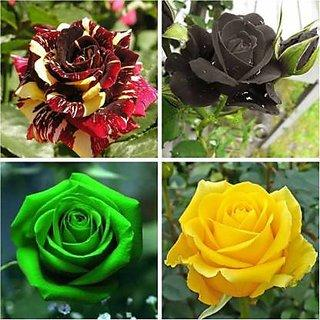Rose: (0, 14, 156, 152), (5, 168, 150, 310), (167, 172, 310, 307), (165, 11, 282, 125), (284, 11, 320, 97)
